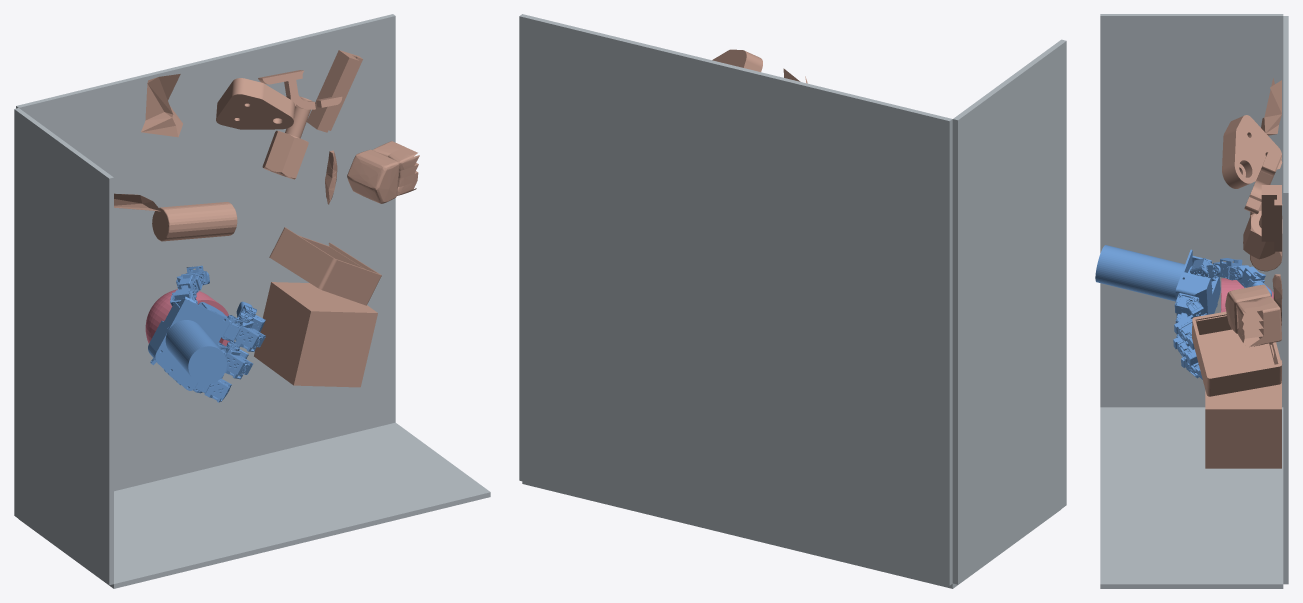
3 views of the same model, side by side, from view 1: azimuth 30°, elevation 25°; view 2: azimuth 150°, elevation 25°; view 3: azimuth 270°, elevation 25° (orthographic). The views are drawn at different scales.
Visible parts, largest first — view 1: environment, obstacle_002, hand, obstacle_001, obstacle_007, obstacle_008, obstacle_009, obstacle_004, obstacle_000, obstacle_005, obstacle_003, world; view 2: environment; view 3: environment, hand, obstacle_002, obstacle_001, obstacle_008, obstacle_007, obstacle_004, obstacle_000, obstacle_003, obstacle_005, obstacle_009, world (+1 smaller).
Boxes of the visible parts, box(x1,y1,x2,y2) form: environment: box(14, 14, 490, 588); obstacle_002: box(254, 282, 377, 387); hand: box(148, 265, 265, 402); obstacle_001: box(269, 227, 381, 305); obstacle_007: box(347, 141, 419, 203); obstacle_008: box(216, 78, 294, 129); obstacle_009: box(152, 202, 237, 241); obstacle_004: box(306, 50, 362, 132); obstacle_000: box(262, 96, 312, 179); obstacle_005: box(141, 74, 182, 137); obstacle_003: box(258, 70, 342, 109); world: box(145, 289, 229, 346); environment: box(519, 14, 1066, 588); environment: box(1100, 14, 1288, 588); hand: box(1095, 245, 1271, 379); obstacle_002: box(1205, 360, 1281, 468); obstacle_001: box(1192, 311, 1282, 396); obstacle_008: box(1222, 115, 1281, 188); obstacle_007: box(1225, 284, 1281, 346); obstacle_004: box(1261, 185, 1281, 251); obstacle_000: box(1243, 204, 1282, 259); obstacle_003: box(1244, 149, 1281, 214); obstacle_005: box(1261, 78, 1281, 135); obstacle_009: box(1250, 206, 1282, 271); world: box(1221, 278, 1273, 312).
Bounding box in the file's own units: 0.6672 × 0.6849 × 0.3013.
